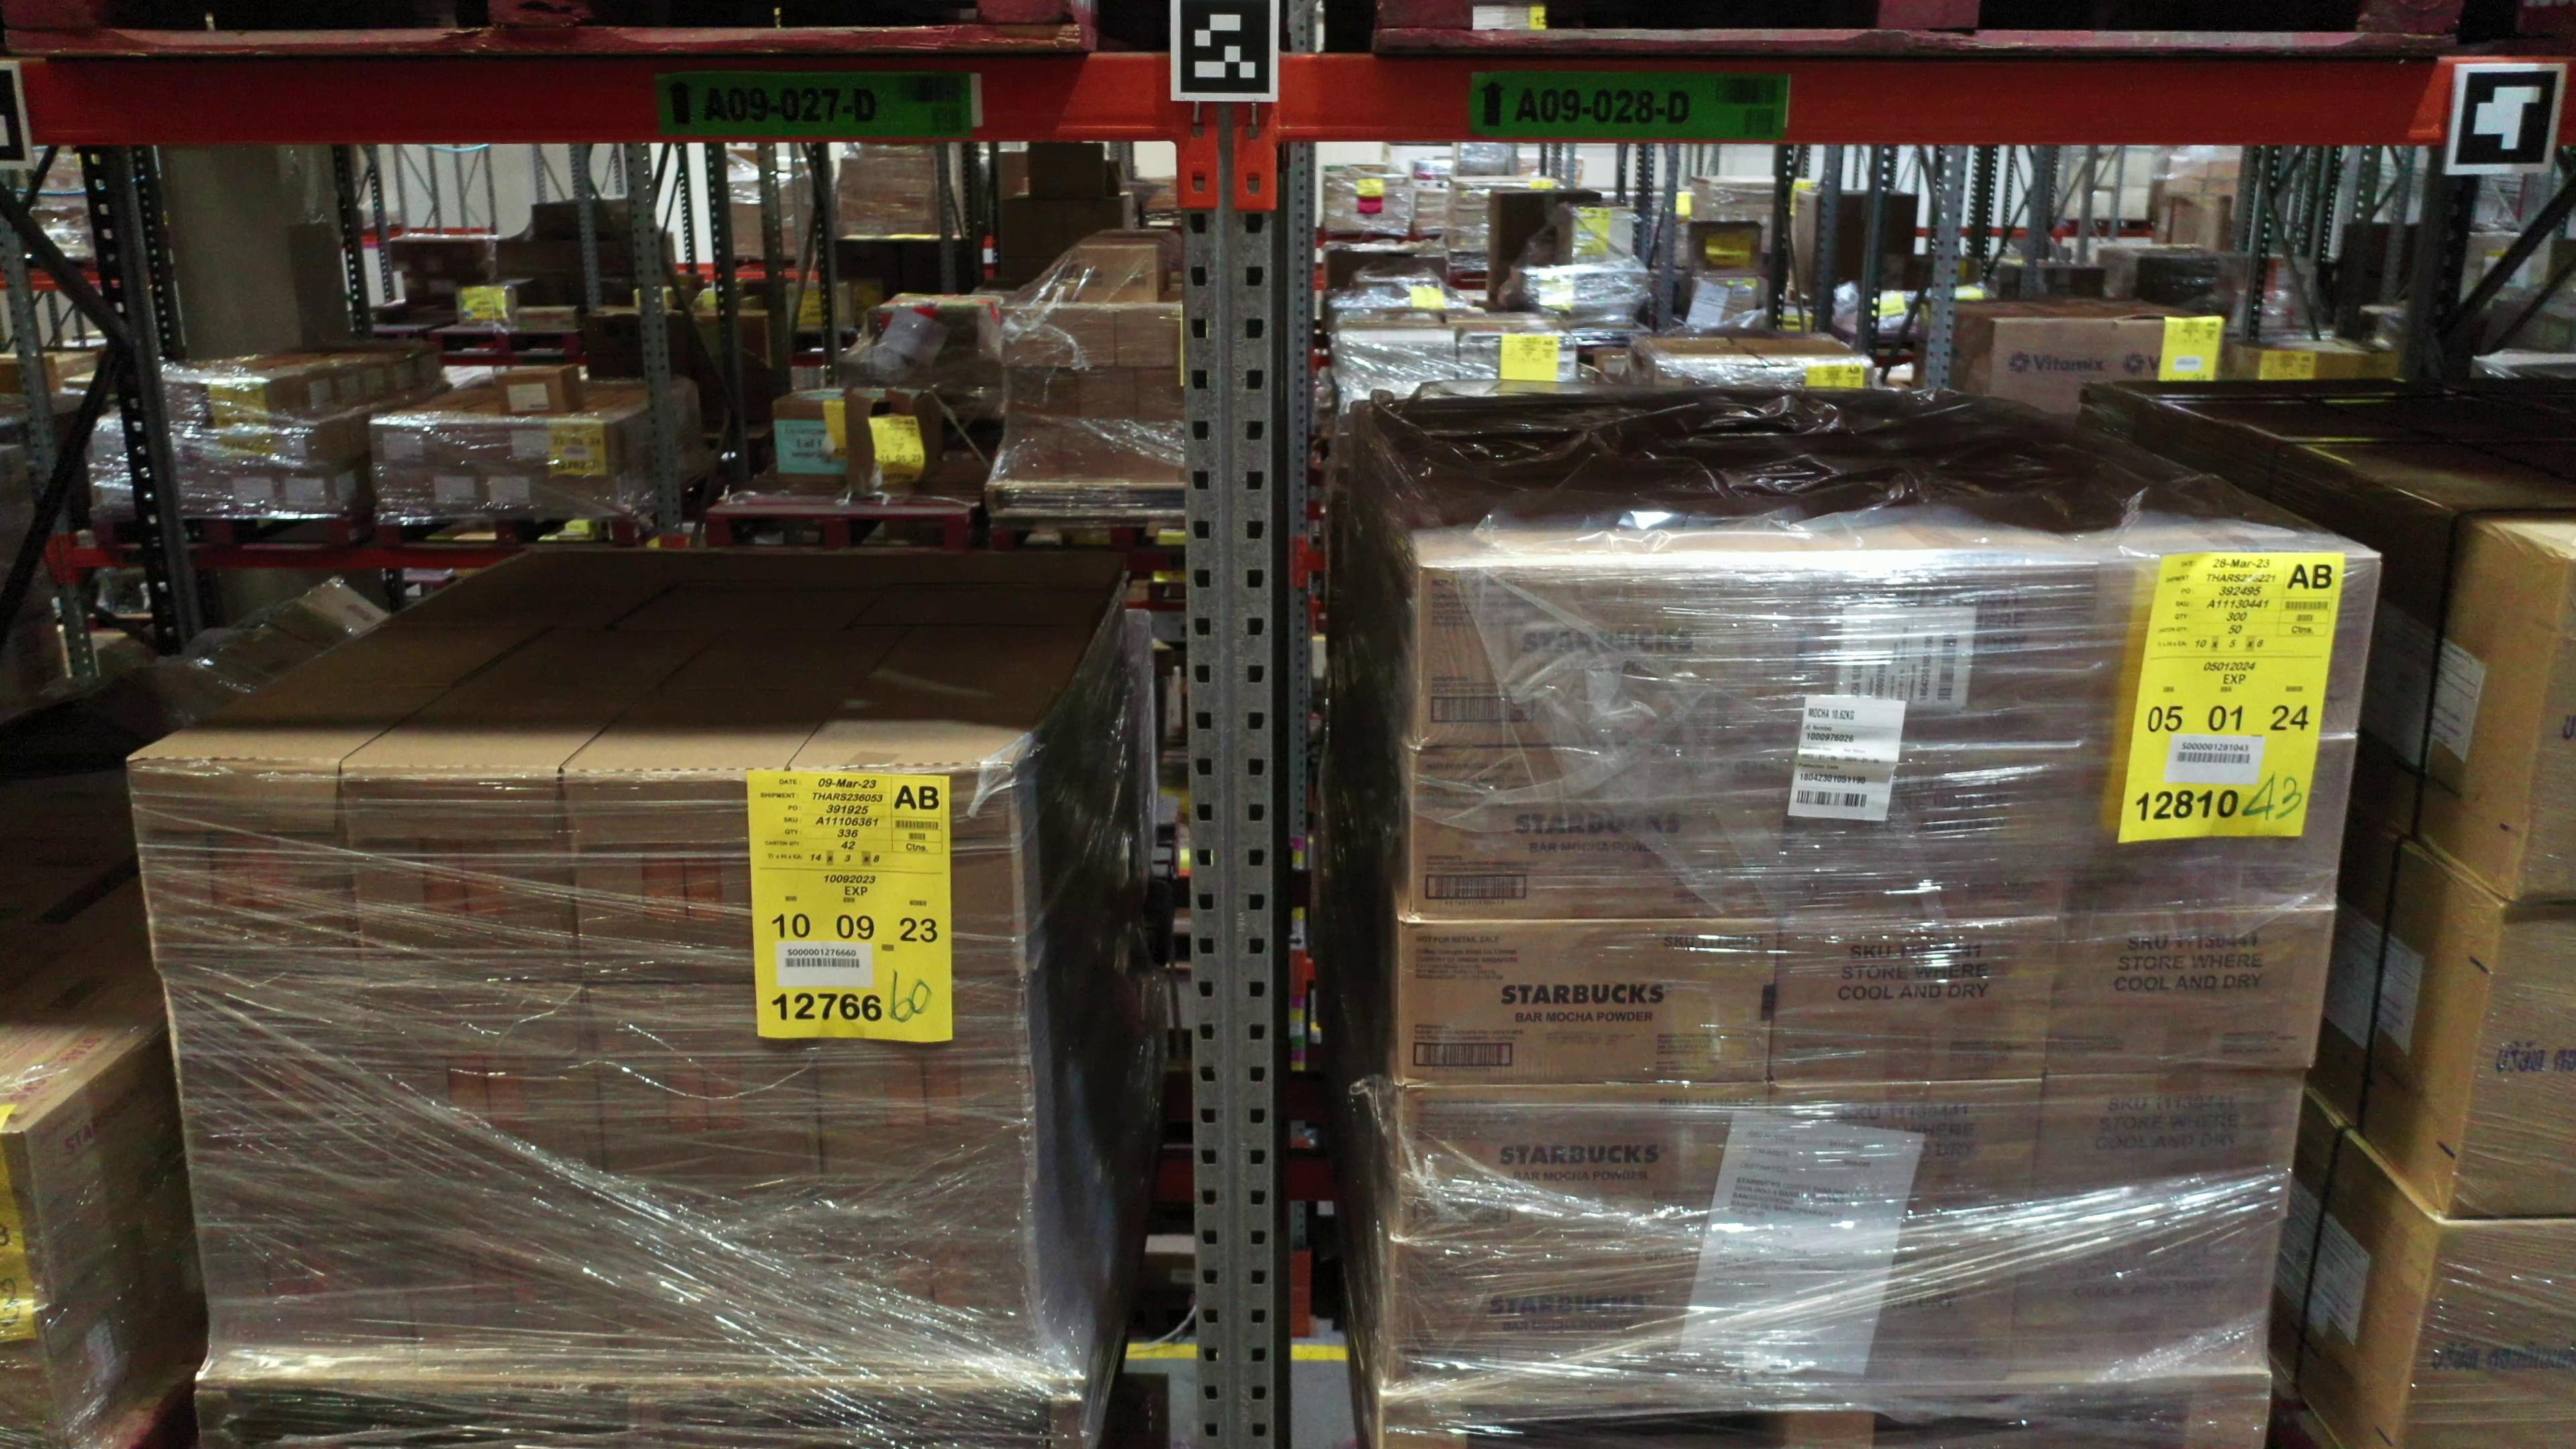-: (1414, 566, 1813, 754), (1410, 747, 1792, 922), (1399, 918, 1782, 1086), (1396, 1083, 1769, 1244), (1387, 1240, 1764, 1392), (1790, 563, 2102, 745), (2081, 557, 2383, 743), (1778, 741, 2084, 918), (2061, 732, 2355, 916), (340, 763, 582, 982), (561, 773, 810, 984), (126, 757, 364, 975), (372, 982, 612, 1194), (786, 768, 1023, 982), (587, 984, 824, 1196), (2045, 908, 2335, 1077), (1767, 916, 2061, 1083), (810, 977, 1031, 1196), (161, 975, 387, 1184), (2022, 1070, 2304, 1237), (1762, 1079, 2042, 1242), (2445, 899, 2576, 1219), (400, 1196, 639, 1371), (2396, 1215, 2576, 1447), (2008, 1226, 2281, 1378), (1752, 1237, 2022, 1385), (189, 1187, 414, 1359), (828, 1198, 1049, 1362), (616, 1201, 833, 1366), (2505, 556, 2576, 901)
